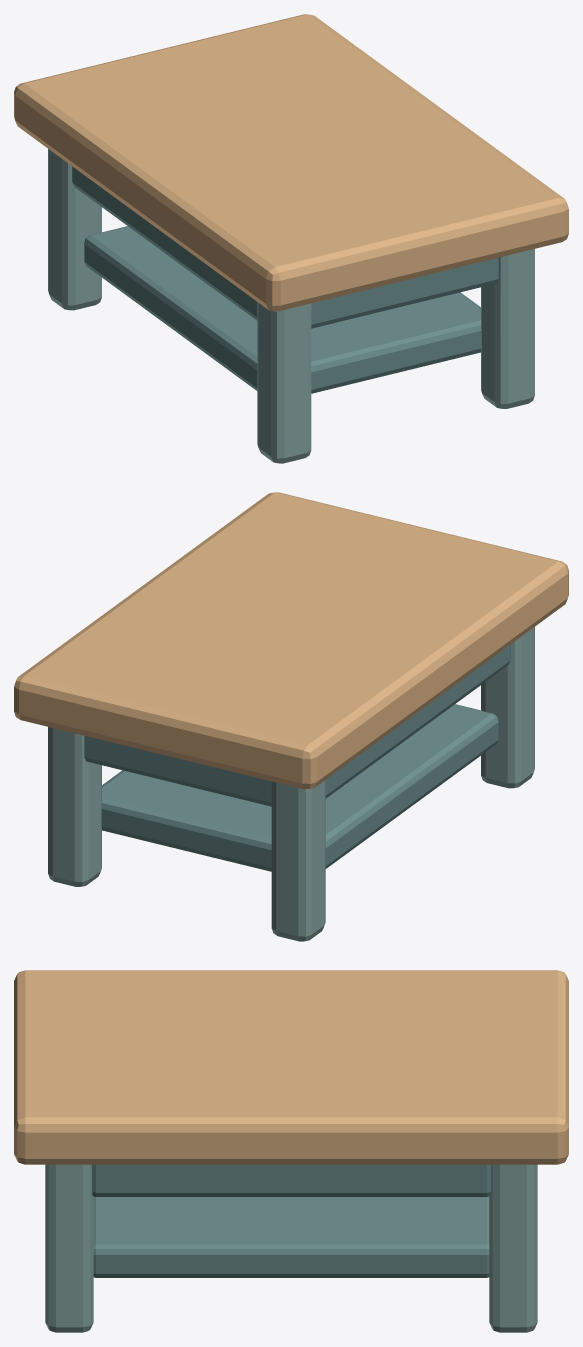
The model's file is table.glb.
The picture shows the model from 3 angles, top to bottom: view 1: azimuth 30°, elevation 25°; view 2: azimuth 150°, elevation 25°; view 3: azimuth 270°, elevation 25°; orthographic projection. The views are drawn at different scales.
Visible parts, largest first — view 1: tableTop, tableShelf, tableLeg, tableLeg.002, tableLeg.001, apronFront, apronLeft; view 2: tableTop, tableShelf, tableLeg.001, tableLeg.003, tableLeg, apronBack, apronLeft; view 3: tableTop, tableShelf, apronRight, tableLeg.002, tableLeg.003.
Part boxes in pixels (x1,y1,x2,y2): tableTop: (14,14,568,311); tableShelf: (84,226,481,393); tableLeg: (257,302,311,463); tableLeg.002: (481,249,534,408); tableLeg.001: (48,149,101,310); apronFront: (311,257,498,328); apronLeft: (72,166,257,320); tableTop: (14,492,568,789); tableShelf: (101,704,498,871); tableLeg.001: (271,780,325,941); tableLeg.003: (48,727,101,886); tableLeg: (481,627,534,788); apronBack: (84,735,271,806); apronLeft: (325,644,510,798); tableTop: (14,970,568,1164); tableShelf: (93,1196,489,1277); apronRight: (92,1164,490,1196); tableLeg.002: (45,1164,93,1332); tableLeg.003: (489,1164,537,1332).
Size of the model in its own units: 1 by 0.67 by 1.5.
